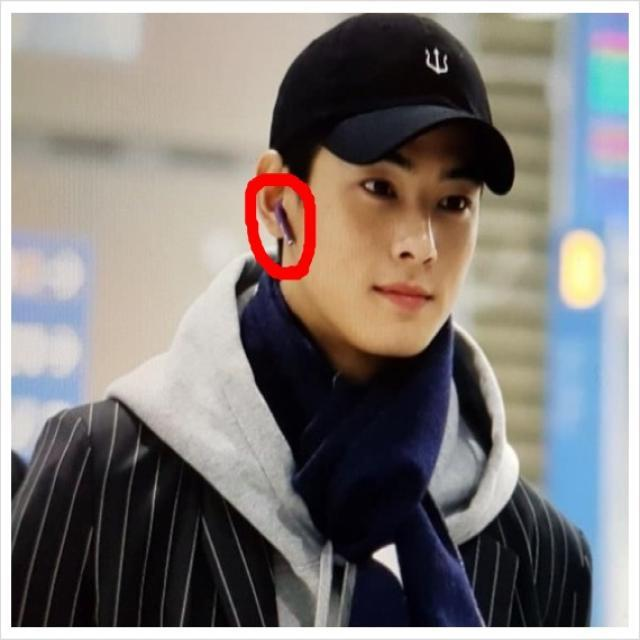earphone: (268, 198, 304, 250)
